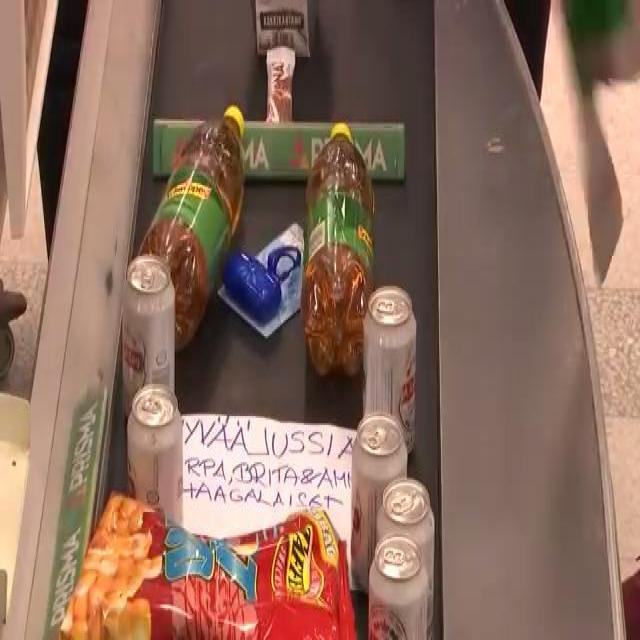beverage: (137, 102, 263, 348), (308, 123, 372, 389), (357, 414, 413, 596), (378, 474, 438, 630), (366, 290, 419, 458), (130, 383, 188, 531), (120, 254, 176, 404), (368, 535, 430, 640)
food-box: (58, 503, 351, 640), (250, 0, 314, 62), (262, 49, 300, 143)
utility-box: (224, 207, 308, 371)
